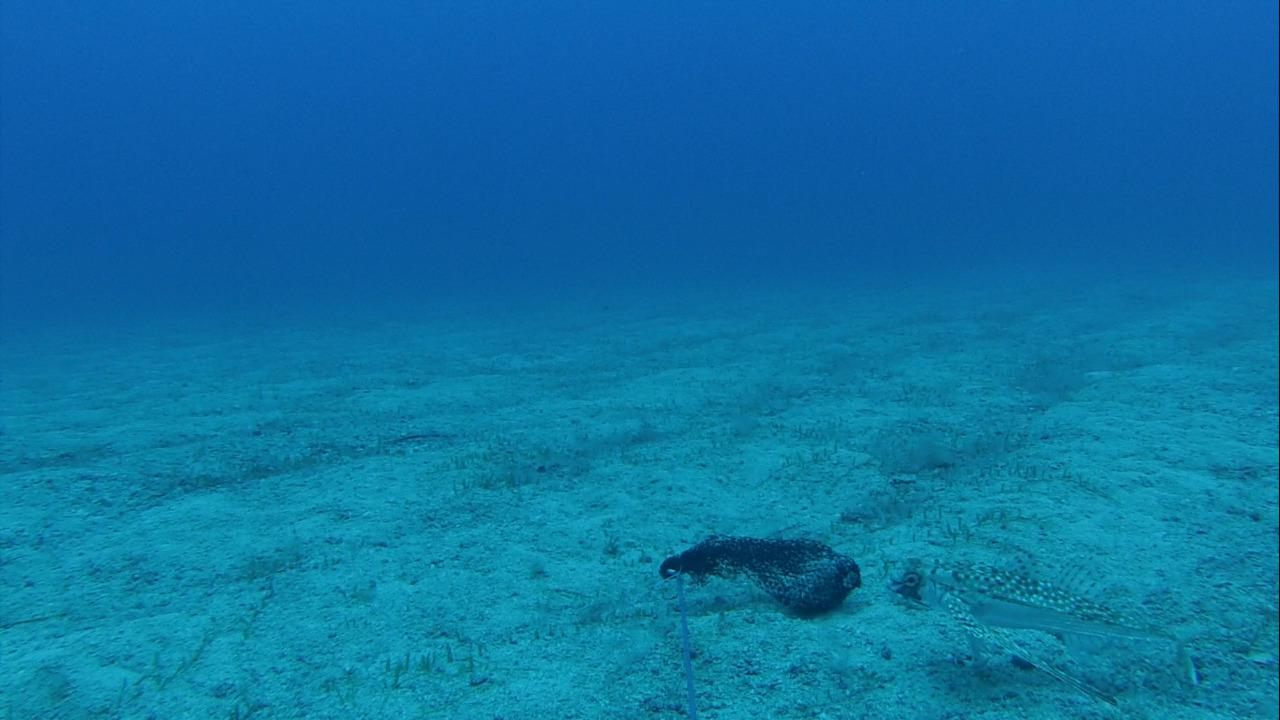dactylopterus: (887, 541, 1213, 694)
